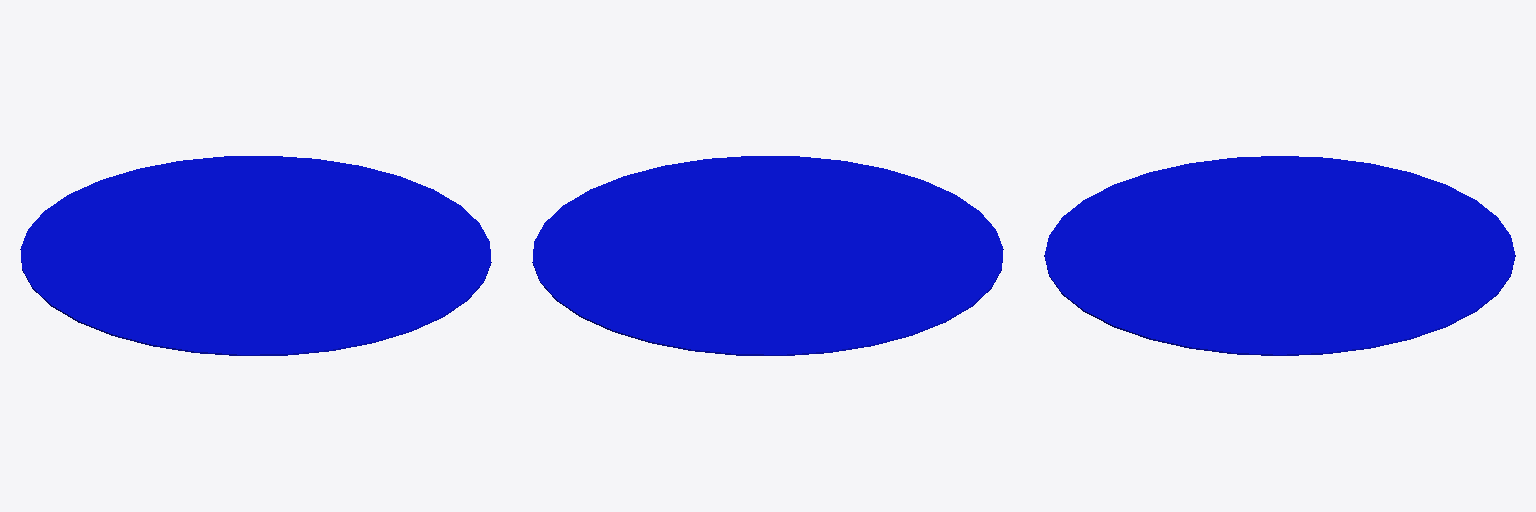
The robot description file, URDF, robot "circle_zone":
<?xml version="1.0"?>
<robot name="circle_zone">

    <link name="circle">
        <visual>
            <geometry>
                <cylinder length="0.05" radius="7"/>
            </geometry>
            <material name="blue">
                <color rgba="0.05 0.1 0.9 0.5"/>
            </material>
            <origin xyz="0 0 0"/>
        </visual>
        <inertial>
            <mass value="60"/>
            <inertia ixx="0" ixy="0" ixz="0" iyy="0" iyz="0" izz="0"/>
        </inertial>
    </link>

</robot>

--- What the picture shows (computed from the rendered views, not written in the file) ---
The picture shows the robot from 3 angles, left to right: view 1: azimuth 30°, elevation 25°; view 2: azimuth 150°, elevation 25°; view 3: azimuth 270°, elevation 25°; orthographic projection.
Robot: circle_zone — 1 links, 0 joints (none); root link circle; default pose: all joints at 0.
Visible links, largest first — view 1: circle; view 2: circle; view 3: circle.
Link boxes in pixels (box(x1,y1,x2,y2)): circle: box(20, 156, 491, 355); circle: box(532, 156, 1003, 355); circle: box(1044, 156, 1515, 355).
Bounding box of the posed robot: 14 × 14 × 0.05 m (x, y, z).
Geometry: primitives only (box / cylinder / sphere), no mesh files.
